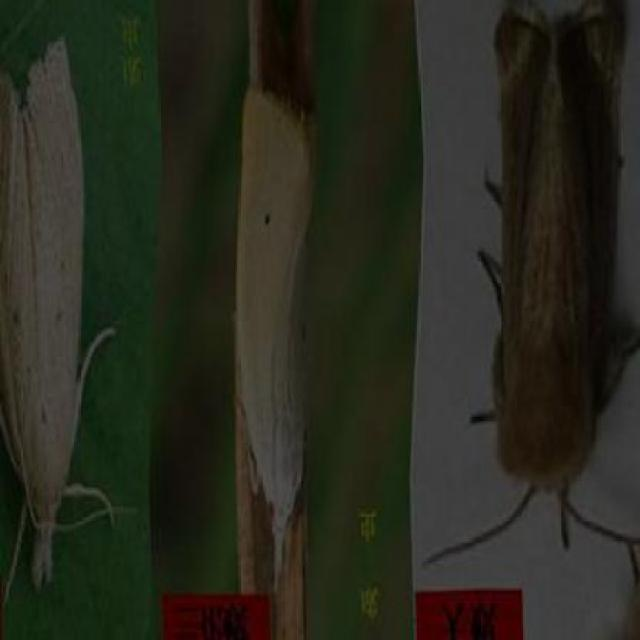stem-borer: (427, 0, 640, 566), (0, 32, 102, 597), (231, 77, 318, 589)
